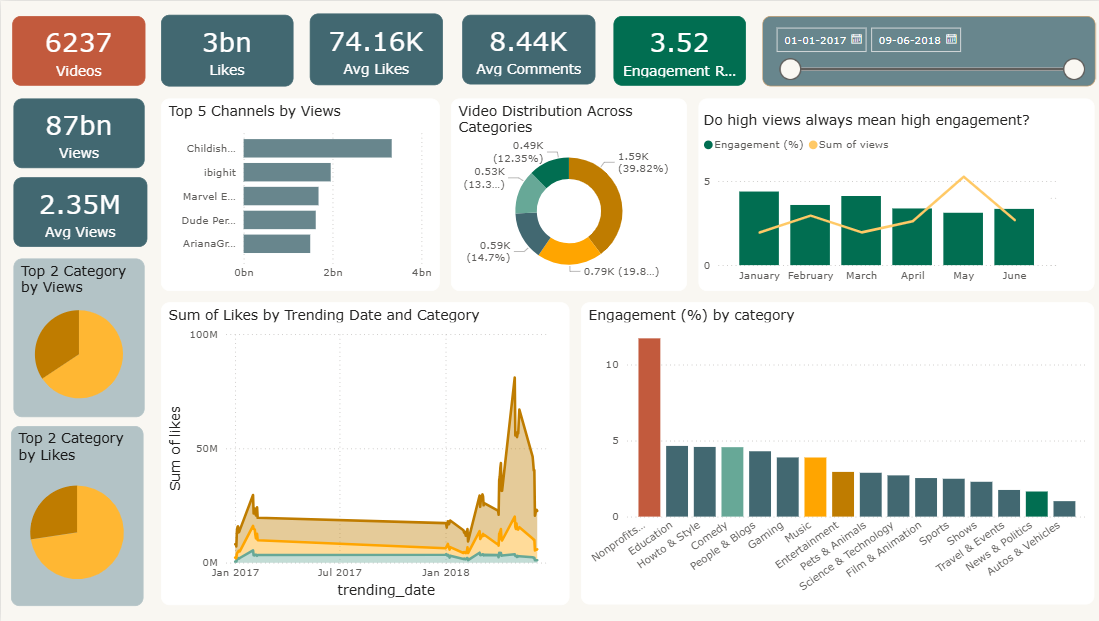

This screenshot's page, from the dashboard's own definition file:
{"tool":"powerbi","page":{"name":"Page 1","canvas":[1280,720],"ordinal":0},"visuals":[{"type":"card","fields":{"Values":["Merge1.views"]},"box":[14.5,113,152.2,81.2],"z":0},{"type":"card","fields":{"Values":["Merge1.likes"]},"box":[185.7,15.6,153.2,83.1],"z":1000},{"type":"card","fields":{"Values":["Merge1.likes"]},"box":[358.4,14.3,154.5,83.1],"z":2000},{"type":"card","fields":{"Values":["Merge1.comment_count"]},"box":[535.1,15.6,154.5,80.5],"z":3000},{"type":"card","fields":{"Values":["Merge1.video_id"]},"box":[13,16.9,154.5,80.5],"z":4000},{"type":"card","fields":{"Values":["Merge1.Engagement (%)"]},"box":[710.4,16.9,153.2,80.5],"z":5000},{"type":"card","fields":{"Values":["Merge1.views"]},"box":[14.5,204.3,155.1,81.2],"z":6000},{"type":"slicer","fields":{"Values":["Merge1.trending_date"]},"box":[881.9,16.7,386.1,81.9],"z":7000},{"type":"clusteredBarChart","title":"Top 5 Channels by Views","fields":{"Y":["Merge1.views"],"Category":["Merge1.channel_title"]},"box":[185.5,113,323.2,223.2],"z":8000},{"type":"lineClusteredColumnComboChart","title":"Do high views always mean high engagement?","fields":{"Category":["Merge1.trending_date.Variation.Date Hierarchy.Month"],"Y":["Merge1.Engagement (%)"],"Y2":["Merge1.views"]},"box":[808.7,113,459.4,223.2],"z":9000},{"type":"pieChart","title":"Top 2 Category by Views","fields":{"Category":["Merge1.youtube_categories.title"],"Y":["Merge1.views"]},"box":[14.5,298.6,152.2,184.1],"z":10000},{"type":"pieChart","title":"Top 2 Category by Likes","fields":{"Category":["Merge1.youtube_categories.title"],"Y":["Merge1.likes"]},"box":[11.6,492.8,153.6,208.7],"z":11000},{"type":"donutChart","title":"Video Distribution Across Categories","fields":{"Category":["Merge1.youtube_categories.title"],"Y":["Merge1.video_id"]},"box":[521.2,113.4,273.9,223.2],"z":12000},{"type":"stackedAreaChart","title":"Sum of Likes by Trending Date and Category","fields":{"Series":["Merge1.youtube_categories.title"],"Category":["Merge1.trending_date"],"Y":["Merge1.likes"]},"box":[185.2,349.9,473.4,351.3],"z":13000},{"type":"clusteredColumnChart","title":"Engagement (%) by category","fields":{"Category":["Merge1.youtube_categories.title"],"Y":["Merge1.Engagement (%)"]},"box":[673.1,349.3,595.5,350.7],"z":14000}]}

Visuals, with their boxes in screenshot pixels (x1, y1, x2, y2), scaled from the page's 1280x720 canvas onto the 1099x621 screenshot:
card - Merge1.views: 12/97/143/167
card - Merge1.likes: 159/13/291/85
card - Merge1.likes: 308/12/440/84
card - Merge1.comment_count: 459/13/592/83
card - Merge1.video_id: 11/15/144/84
card - Merge1.Engagement (%): 610/15/741/84
card - Merge1.views: 12/176/146/246
slicer - Merge1.trending_date: 757/14/1089/85
"Top 5 Channels by Views" clusteredBarChart: 159/97/437/290
"Do high views always mean high engagement?" lineClusteredColumnComboChart: 694/97/1089/290
"Top 2 Category by Views" pieChart: 12/258/143/416
"Top 2 Category by Likes" pieChart: 10/425/142/605
"Video Distribution Across Categories" donutChart: 447/98/683/290
"Sum of Likes by Trending Date and Category" stackedAreaChart: 159/302/565/605
"Engagement (%) by category" clusteredColumnChart: 578/301/1089/604
